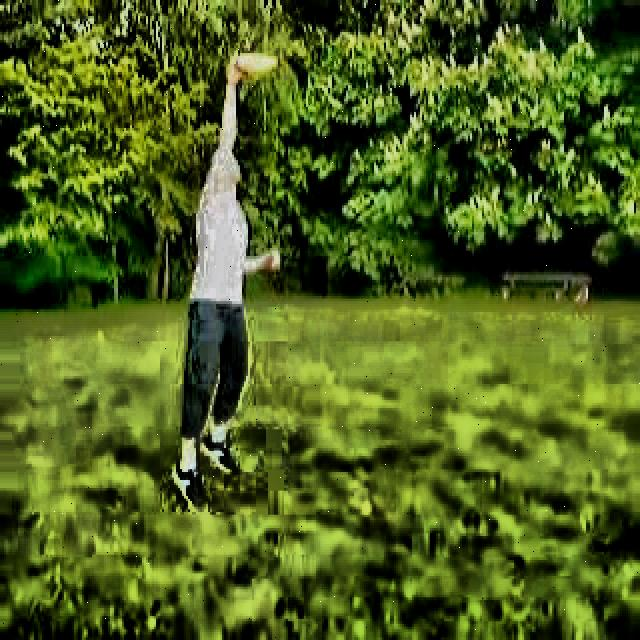T: (157, 44, 294, 512)
